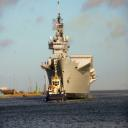Portanaves: (41, 2, 100, 102)
